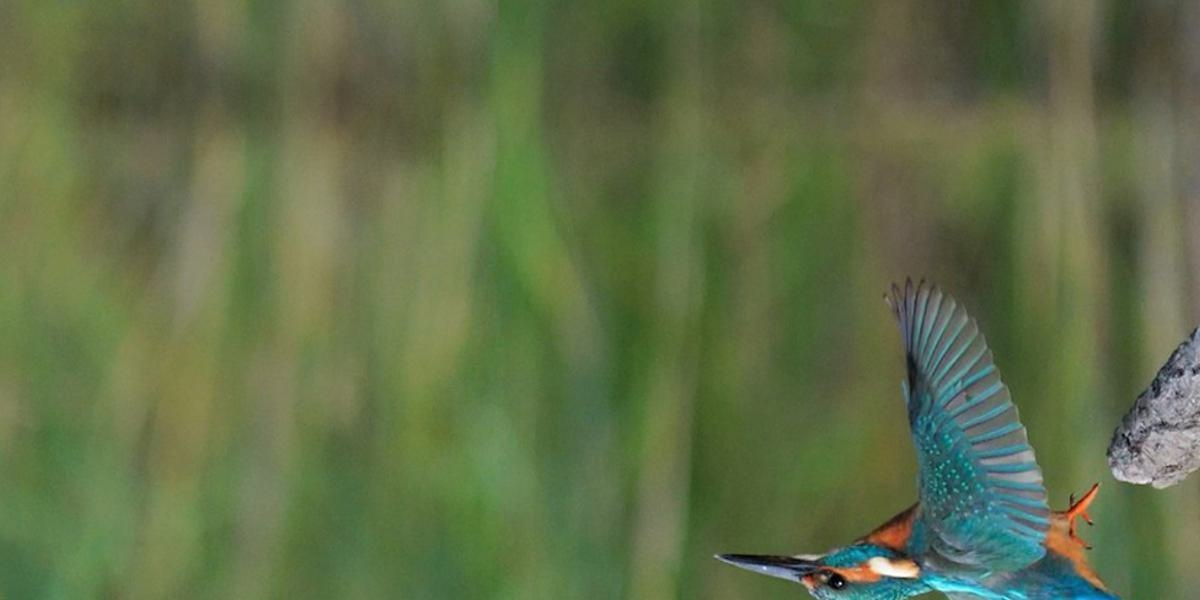kingfisher: (699, 292, 1109, 593)
